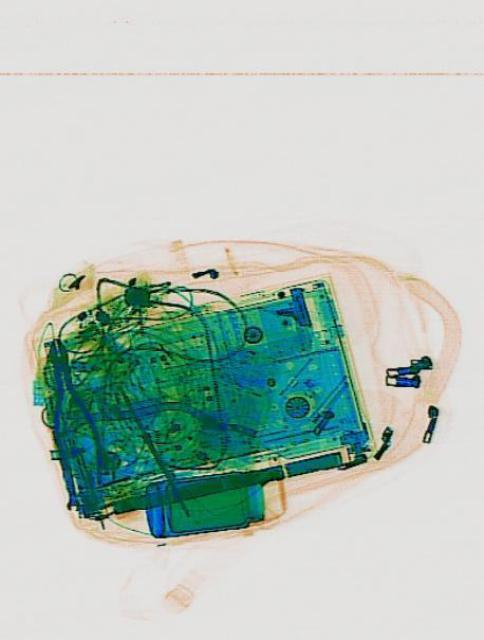Pliers: (31, 330, 106, 494)
Wrench: (59, 464, 76, 510)
